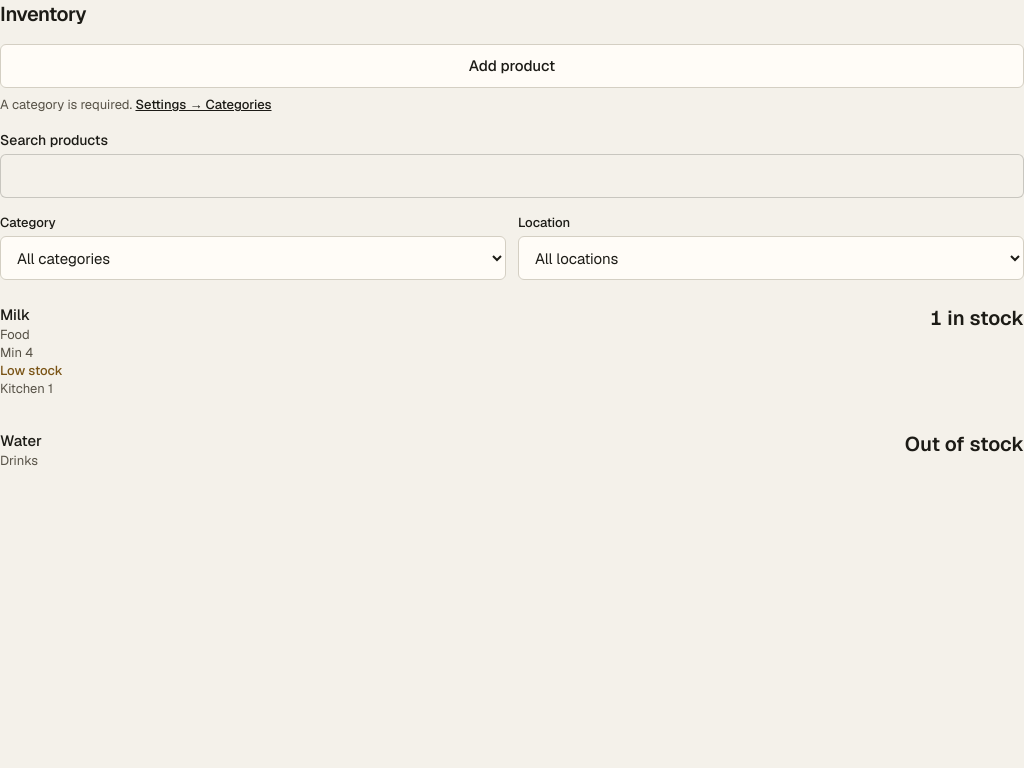
Test: InventoryOverviewScreen › disables create and links to settings when there are no categories
Expected: the link "Milk" is shown, [0,296,1023,406]
Click the button "Add product" at {"x": 512, "y": 66}, box [0,44,1023,88]
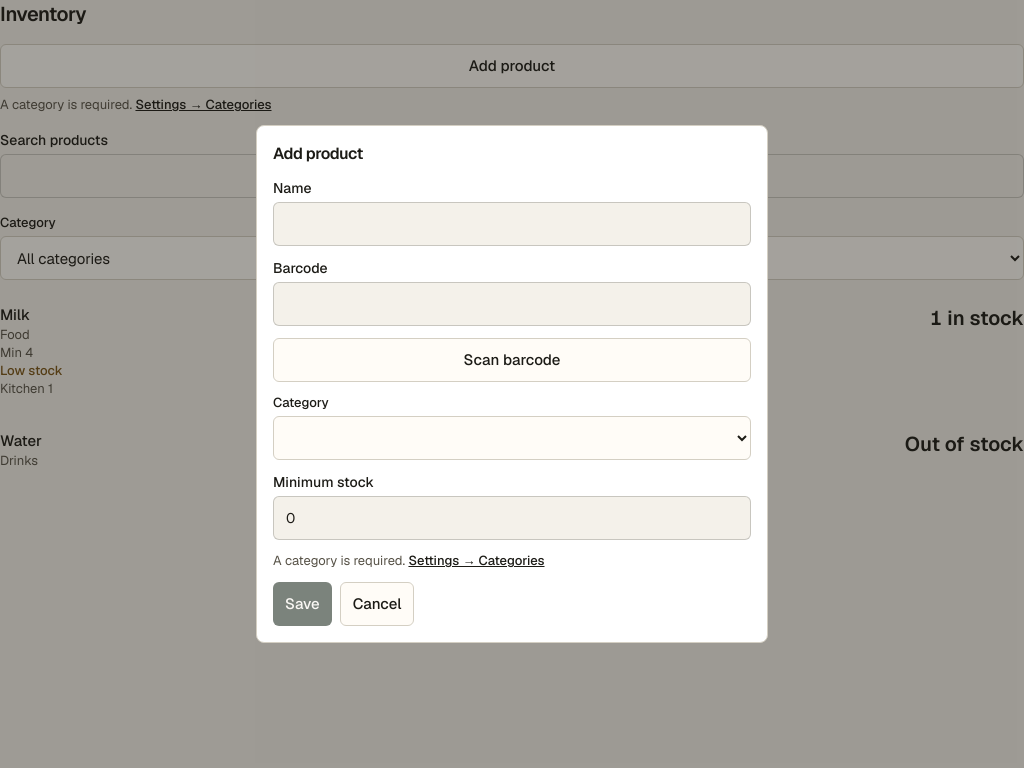
Now the button "Save" is disabled, box [273,582,332,626]
